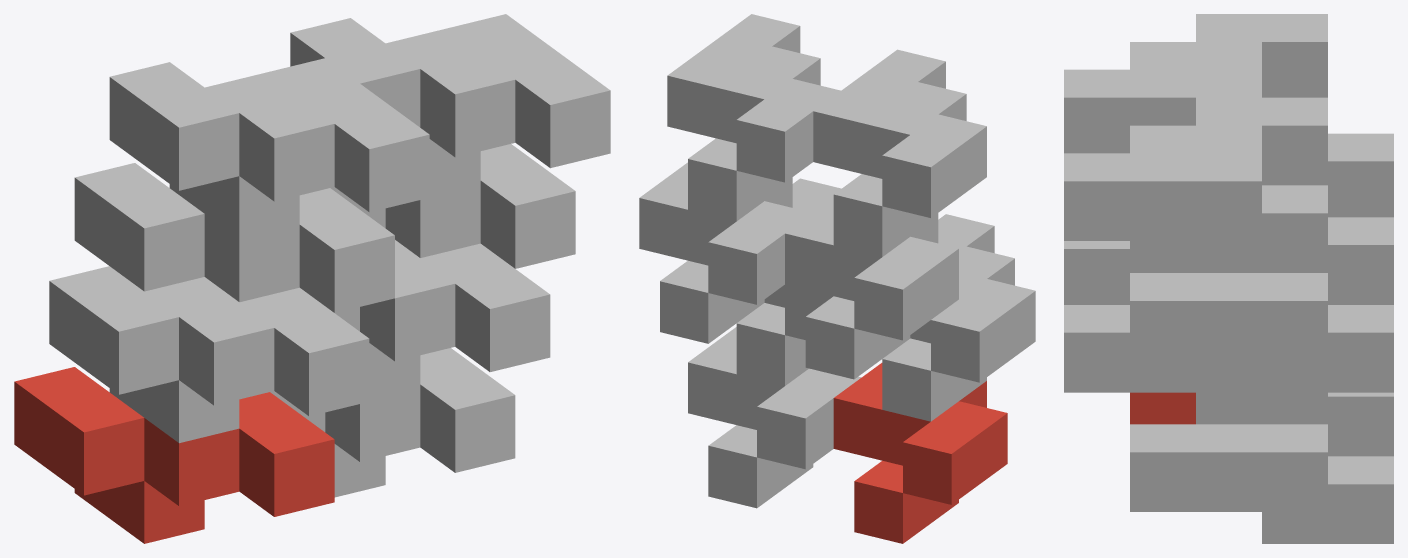
Rendered from tiling.obj.
3 renders of one model, left to right at view 1: azimuth 30°, elevation 25°; view 2: azimuth 150°, elevation 25°; view 3: azimuth 270°, elevation 25°, orthographic. The views are drawn at different scales.
Visible parts, largest first — view 1: copy_1_domain_4, copy_1_domain_2, copy_1_domain_1, copy_1_domain_8, copy_1_domain_3, copy_1_domain_6, copy_1_domain_5, copy_1_domain_7; view 2: copy_1_domain_4, copy_1_domain_8, copy_1_domain_1, copy_1_domain_3, copy_1_domain_7, copy_1_domain_2, copy_1_domain_5, copy_1_domain_6; view 3: copy_1_domain_8, copy_1_domain_7, copy_1_domain_5, copy_1_domain_4, copy_1_domain_6, copy_1_domain_3, copy_1_domain_2, copy_1_domain_1.
Part boxes in pixels (x1,y1,x2,y2): copy_1_domain_4: (109, 58, 429, 238); copy_1_domain_2: (49, 266, 369, 443); copy_1_domain_1: (14, 367, 334, 543); copy_1_domain_8: (290, 14, 610, 192); copy_1_domain_3: (74, 163, 394, 312); copy_1_domain_6: (335, 240, 550, 396); copy_1_domain_5: (270, 348, 515, 497); copy_1_domain_7: (330, 144, 575, 268); copy_1_domain_4: (813, 49, 986, 256); copy_1_domain_8: (667, 14, 840, 221); copy_1_domain_1: (833, 363, 1007, 543); copy_1_domain_3: (785, 198, 958, 379); copy_1_domain_7: (639, 162, 812, 343); copy_1_domain_2: (882, 214, 1035, 421); copy_1_domain_5: (688, 327, 861, 508); copy_1_domain_6: (736, 178, 841, 385); copy_1_domain_8: (1064, 97, 1327, 272); copy_1_domain_7: (1130, 217, 1393, 392); copy_1_domain_5: (1130, 392, 1393, 543); copy_1_domain_4: (1064, 14, 1327, 153); copy_1_domain_6: (1064, 305, 1327, 424); copy_1_domain_3: (1130, 133, 1393, 272); copy_1_domain_2: (1064, 241, 1129, 304); copy_1_domain_1: (1130, 392, 1195, 424).
Bounding box in the file's own units: 7 × 7 × 5.
